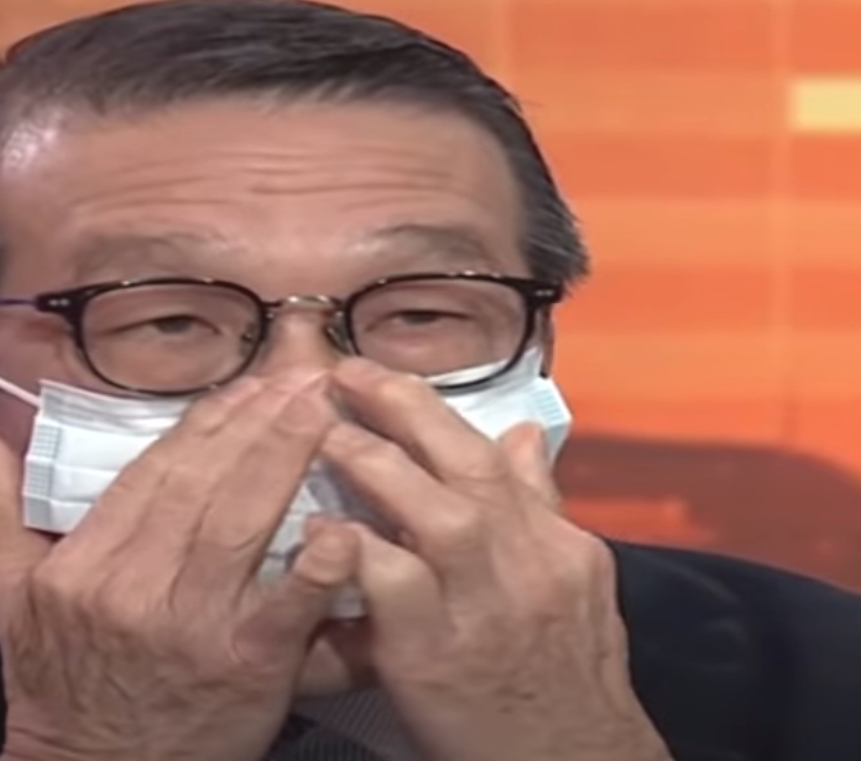mask_weared_incorrect: (1, 26, 572, 704)
